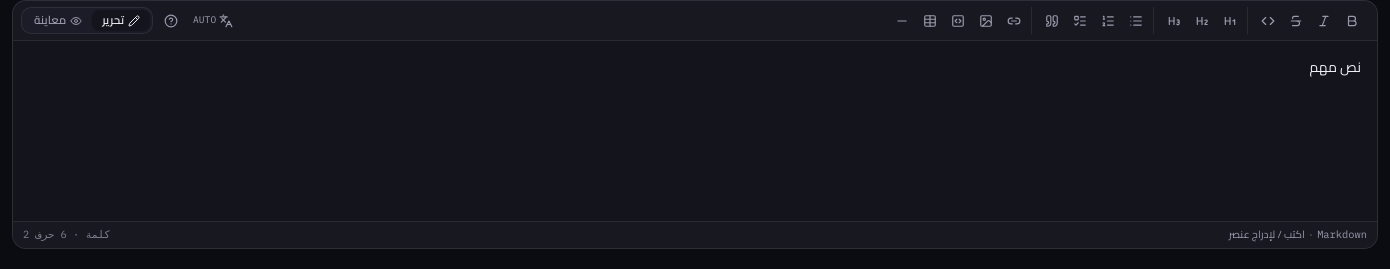
it: MarkdownEditor › wraps the selection when the bold button is pressed
What coordinates should you click on to do the following:
click the button named "عريض"
I would click on:
 (1352, 20)
Its box is [1338, 7, 1365, 34].
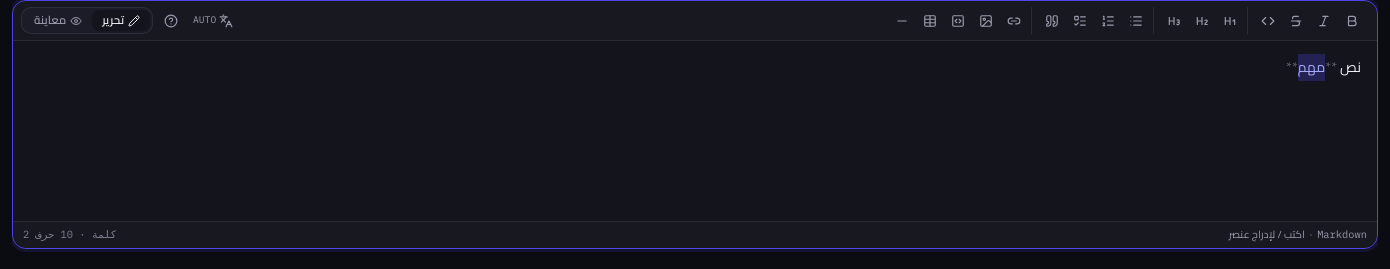
Expected: the text box named "الوصف" holds "نص **مهم**"
